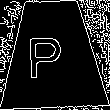P_N: (34, 28, 72, 81)
